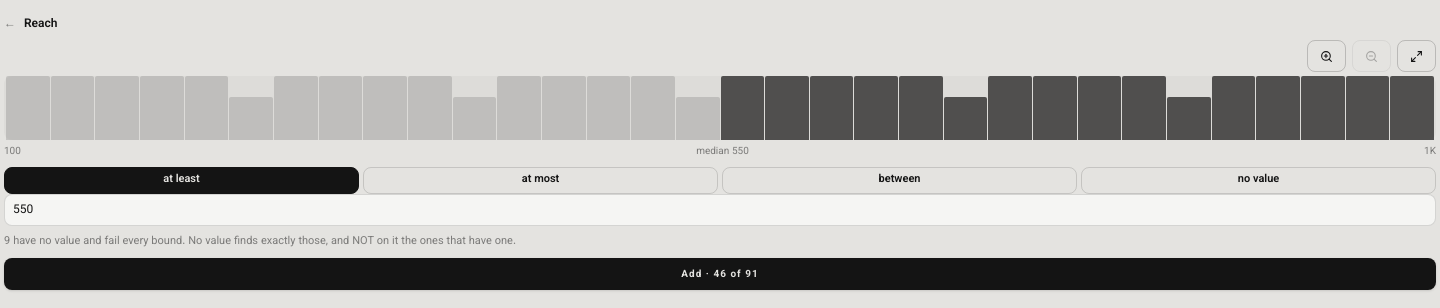
Test: the switches › a floor refuses a field under it
This screenshot has width=1440, height=308.
Replace the text in the number field named "Value" with "-5" at [720, 210], box [4,194,1436,226]
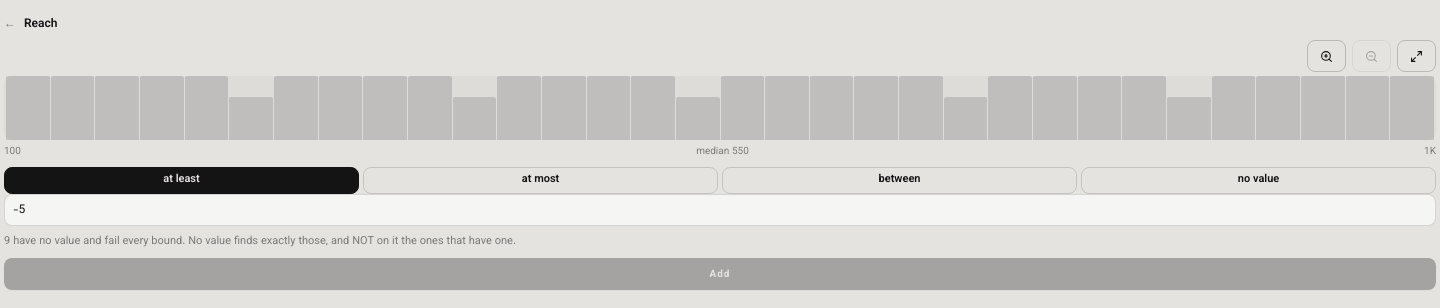
Check: the button with test id "number-bound-submit" is disabled, box [4,258,1436,290]
Replace the text in the number field named "Value" with "0" at [720, 210], box [4,194,1436,226]
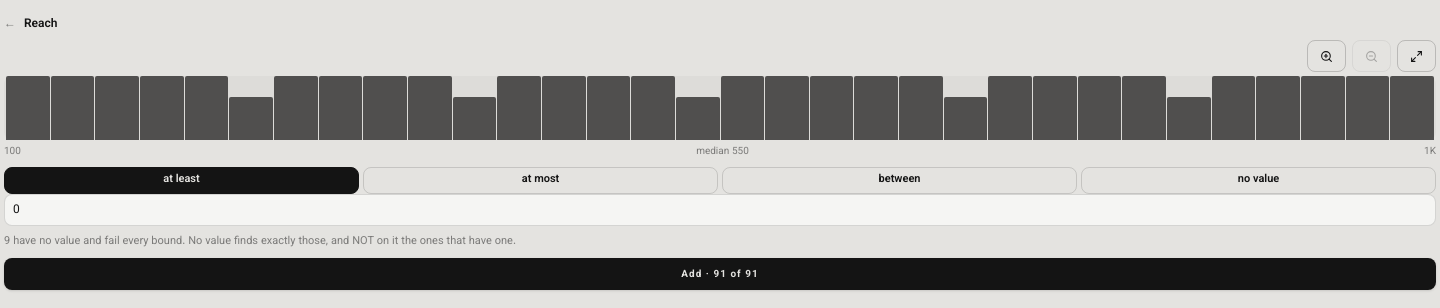
Check: the button with test id "number-bound-submit" is enabled, box [4,258,1436,290]
